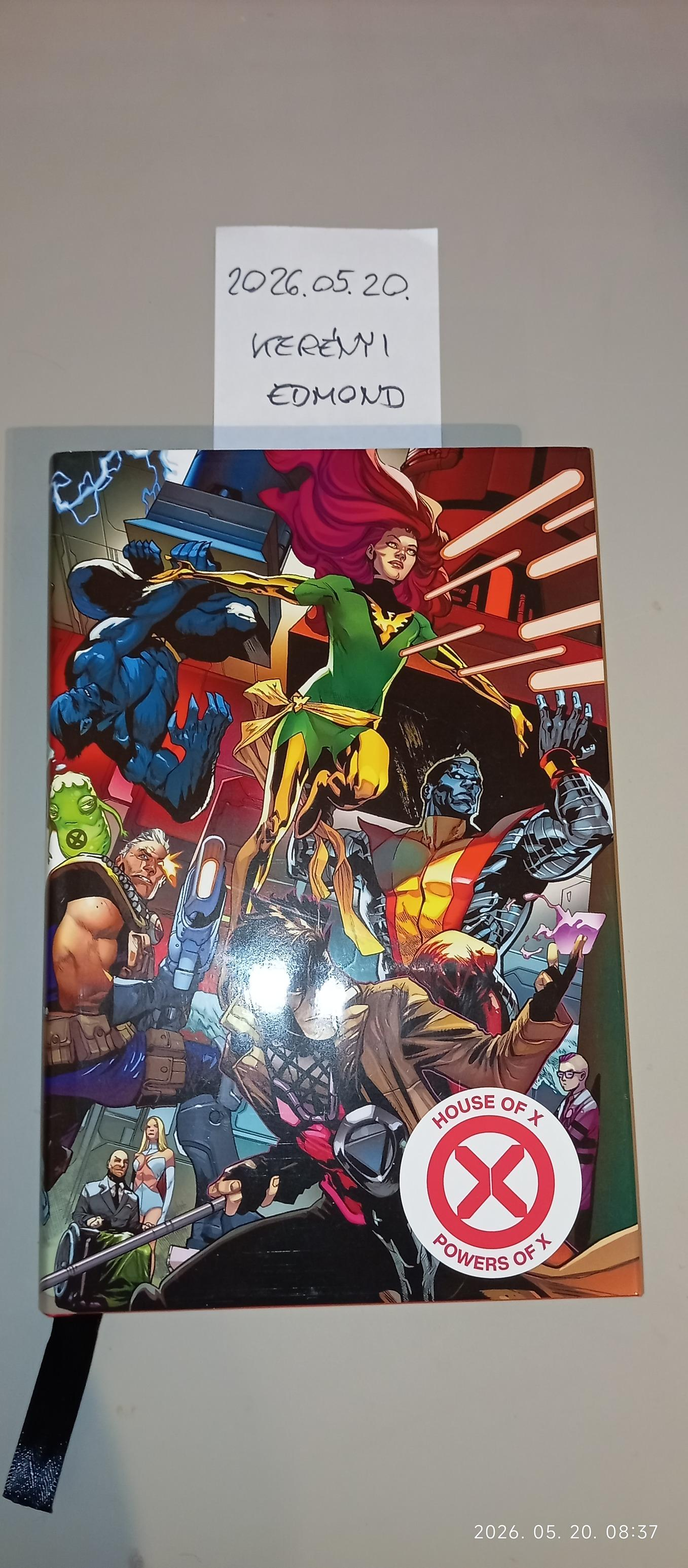comic: (34, 447, 641, 1313)
